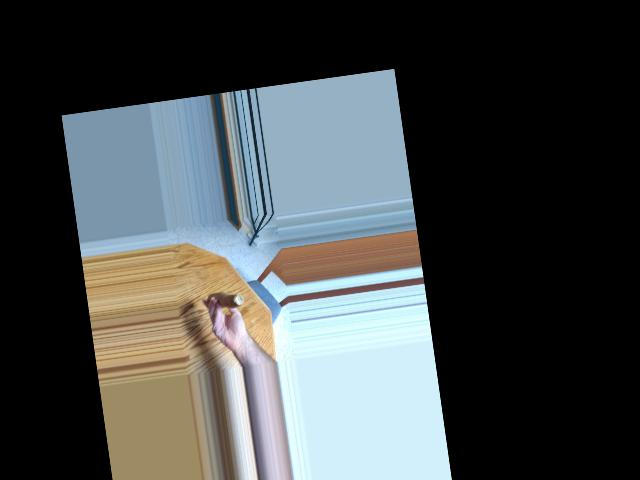sweet_potato: (204, 286, 250, 320)
